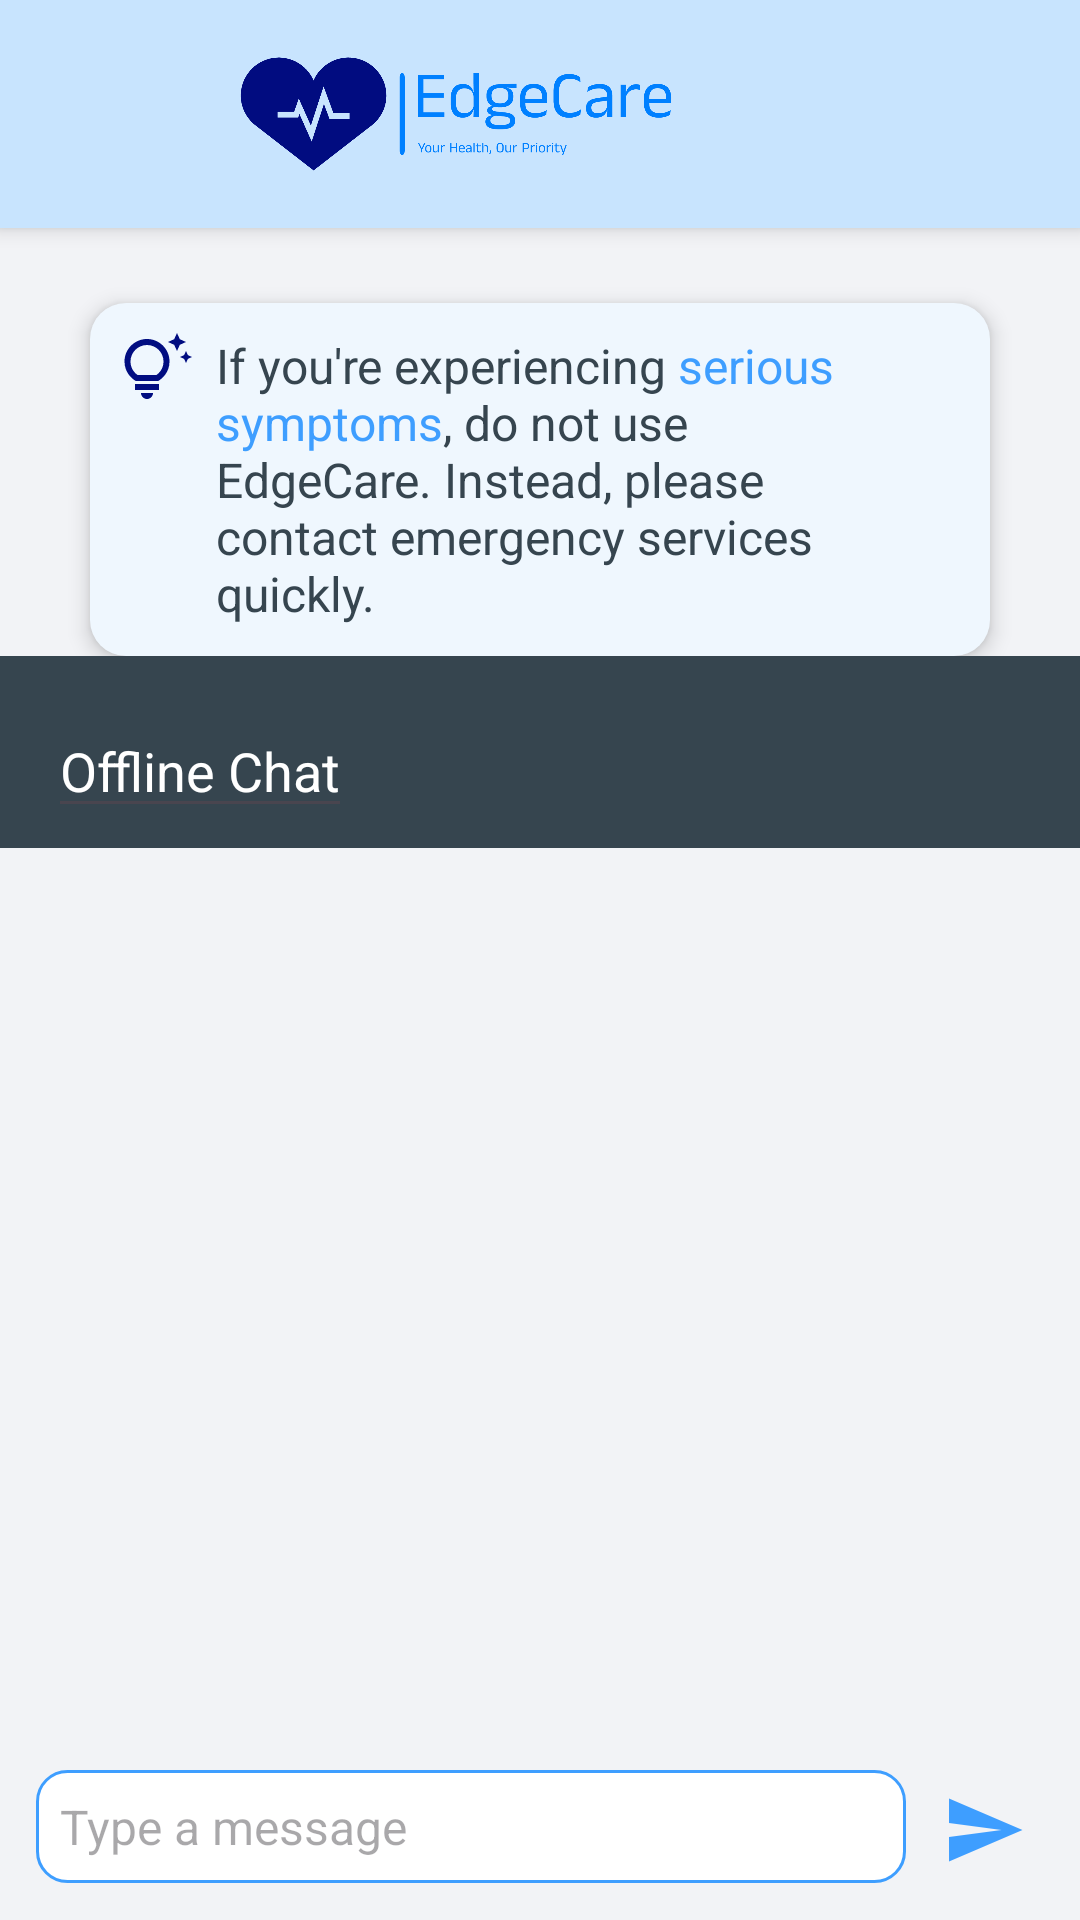

Locate icon controls on the screen. Image size 1080w x 1920h, boxes as {"x1": x1, "y1": y1, "x2": x2, "y2": y2}.
send: {"x1": 949, "y1": 1798, "x2": 1022, "y2": 1862}
tip: {"x1": 124, "y1": 333, "x2": 192, "y2": 399}
